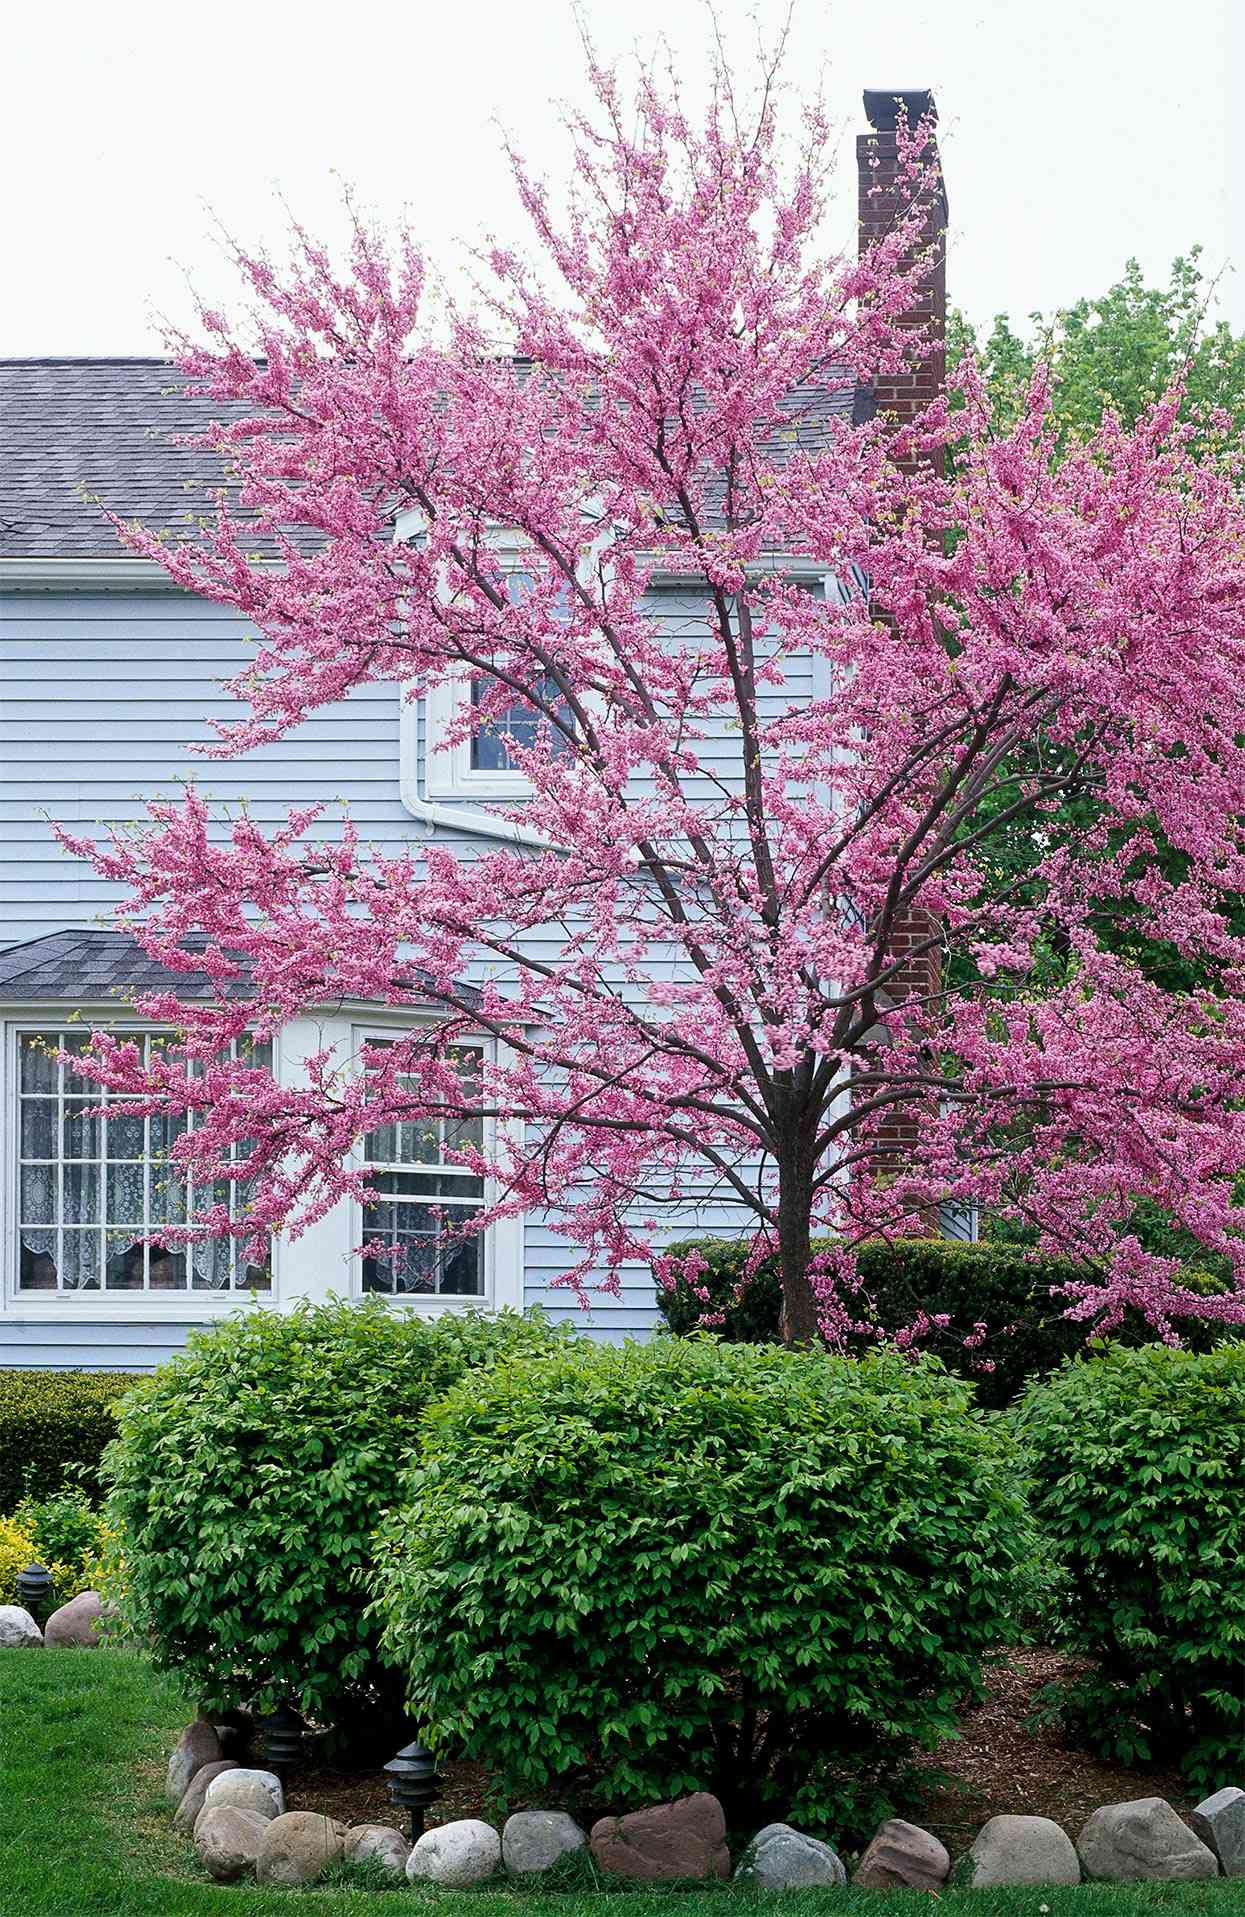grass: (6, 1646, 190, 1906)
rock: (177, 1756, 1244, 1875)
tree: (714, 1009, 873, 1358)
